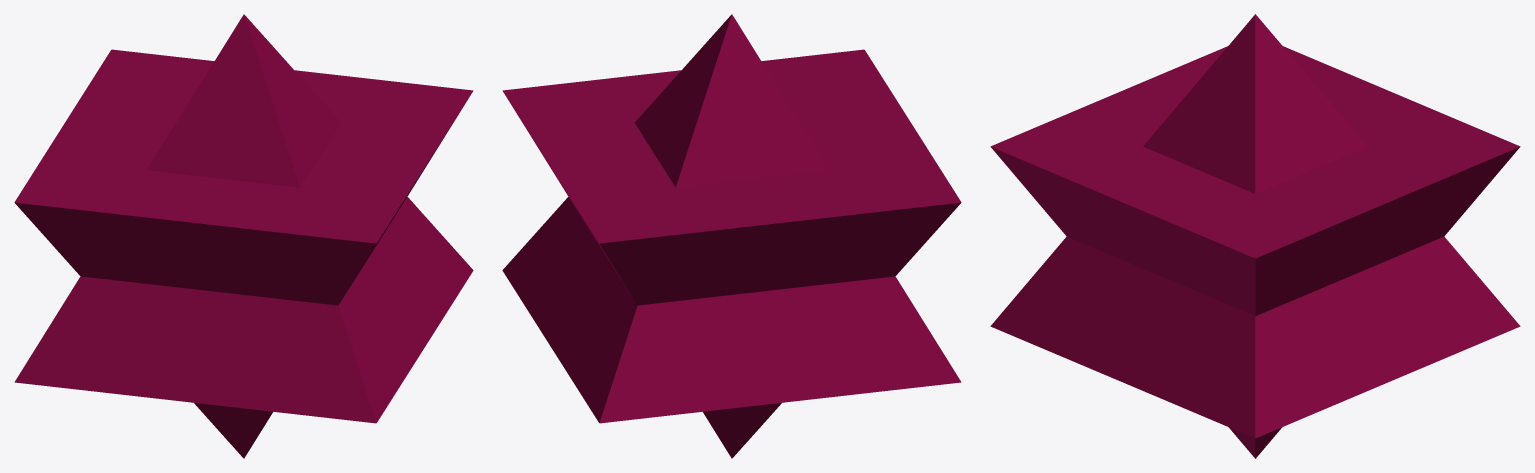
Rendered from seed-full.fbx.
3 renders of one model, left to right at view 1: azimuth 30°, elevation 25°; view 2: azimuth 150°, elevation 25°; view 3: azimuth 270°, elevation 25°, orthographic.
Visible parts, largest first — view 1: pPyramid2; view 2: pPyramid2; view 3: pPyramid2.
Part boxes in pixels (x1,y1,x2,y2): pPyramid2: [14, 14, 473, 458]; pPyramid2: [502, 14, 961, 458]; pPyramid2: [990, 14, 1520, 458].
Bounding box in the file's own units: 14.14 × 13.09 × 14.14.
